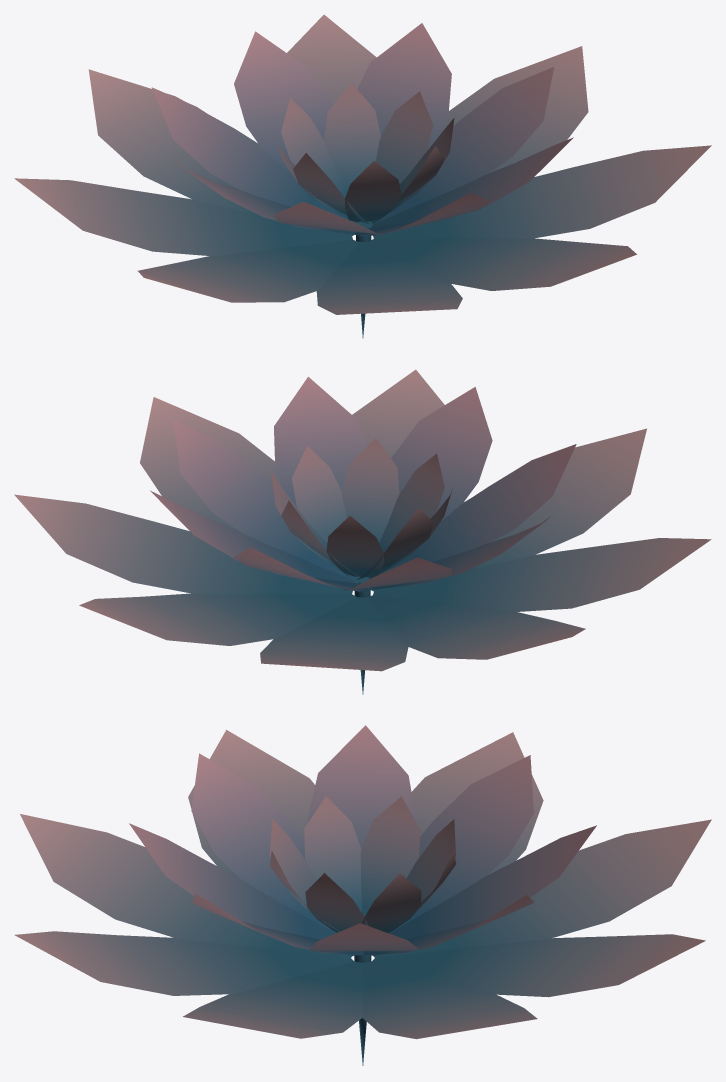
File: plants-cacti-succulents-pink-rosette_v6.glb
3 views of the same model, one above another, from view 1: azimuth 30°, elevation 25°; view 2: azimuth 150°, elevation 25°; view 3: azimuth 270°, elevation 25° (orthographic). The views are drawn at different scales.
Parts seen in each view (by area): view 1: Pink Rosette_v6; view 2: Pink Rosette_v6; view 3: Pink Rosette_v6.
Part boxes in pixels (x1,y1,x2,y2): Pink Rosette_v6: (14, 14, 711, 338); Pink Rosette_v6: (14, 369, 711, 694); Pink Rosette_v6: (14, 725, 711, 1065).
Size of the model in its own units: 0.25 by 0.0964 by 0.25.
